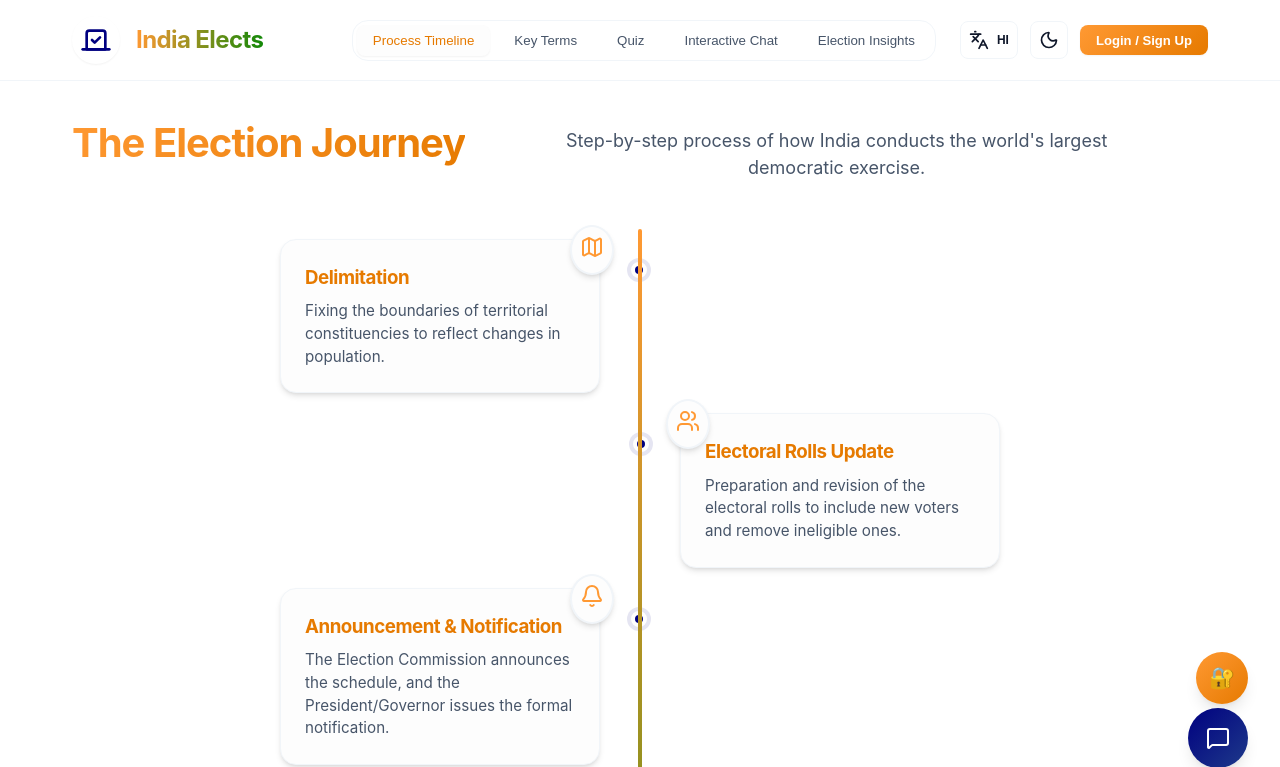
Test: 🌐 Language Toggle Button › switches from English to Hindi when language button is clicked
Click the button with class "lang-toggle" at (989, 40), box [960, 21, 1018, 59]
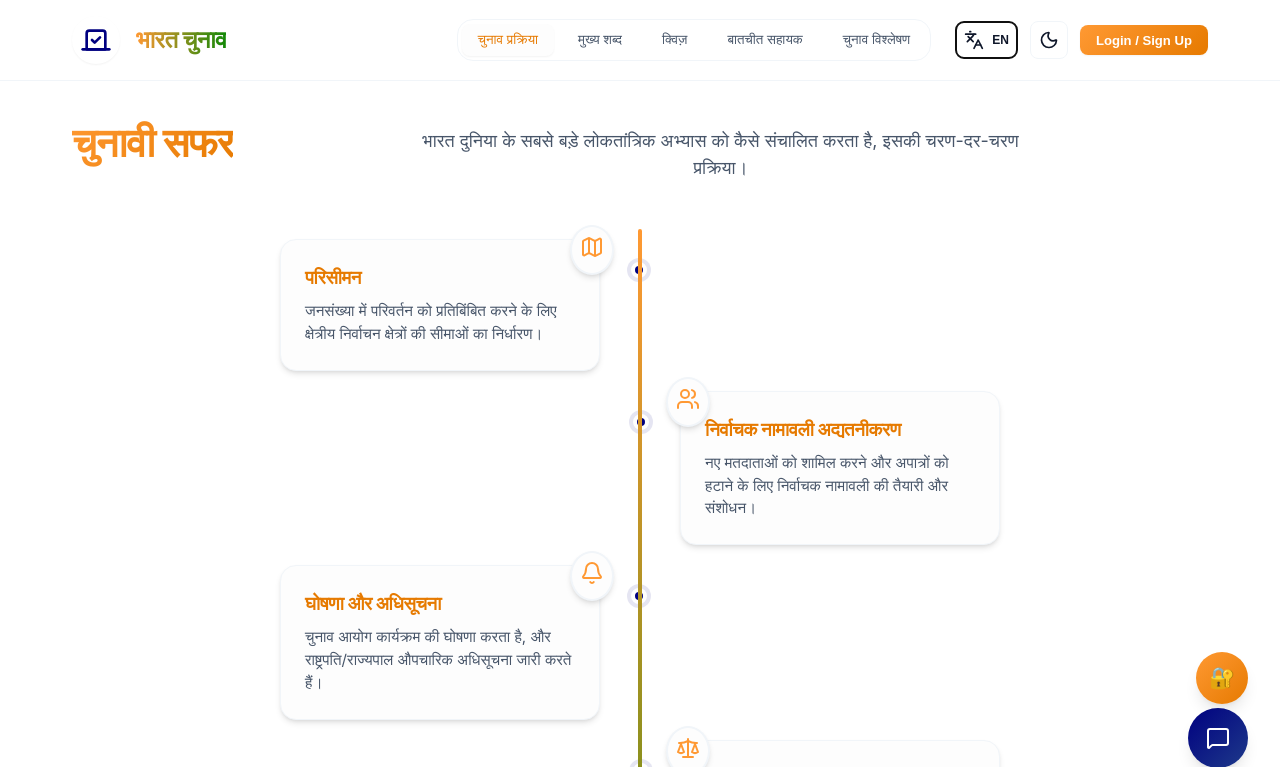
Expected: the button with class "lang-toggle" reads "EN", [955, 21, 1018, 59]
